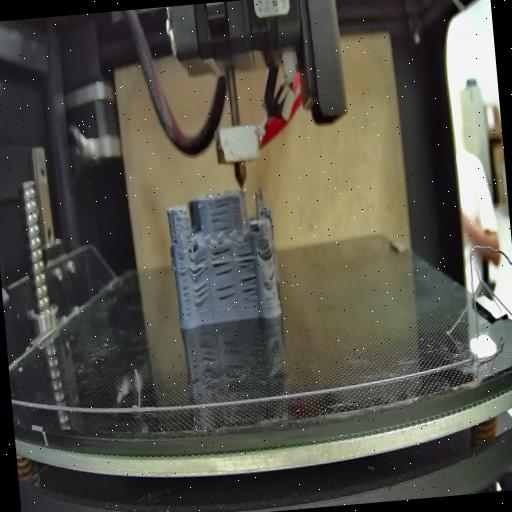cracks: (178, 254, 192, 318), (209, 200, 233, 235), (211, 248, 235, 280), (216, 283, 238, 308), (187, 256, 209, 280), (192, 280, 212, 306), (240, 274, 260, 300), (235, 248, 255, 270), (262, 240, 274, 260), (267, 267, 276, 284), (174, 230, 178, 246)
